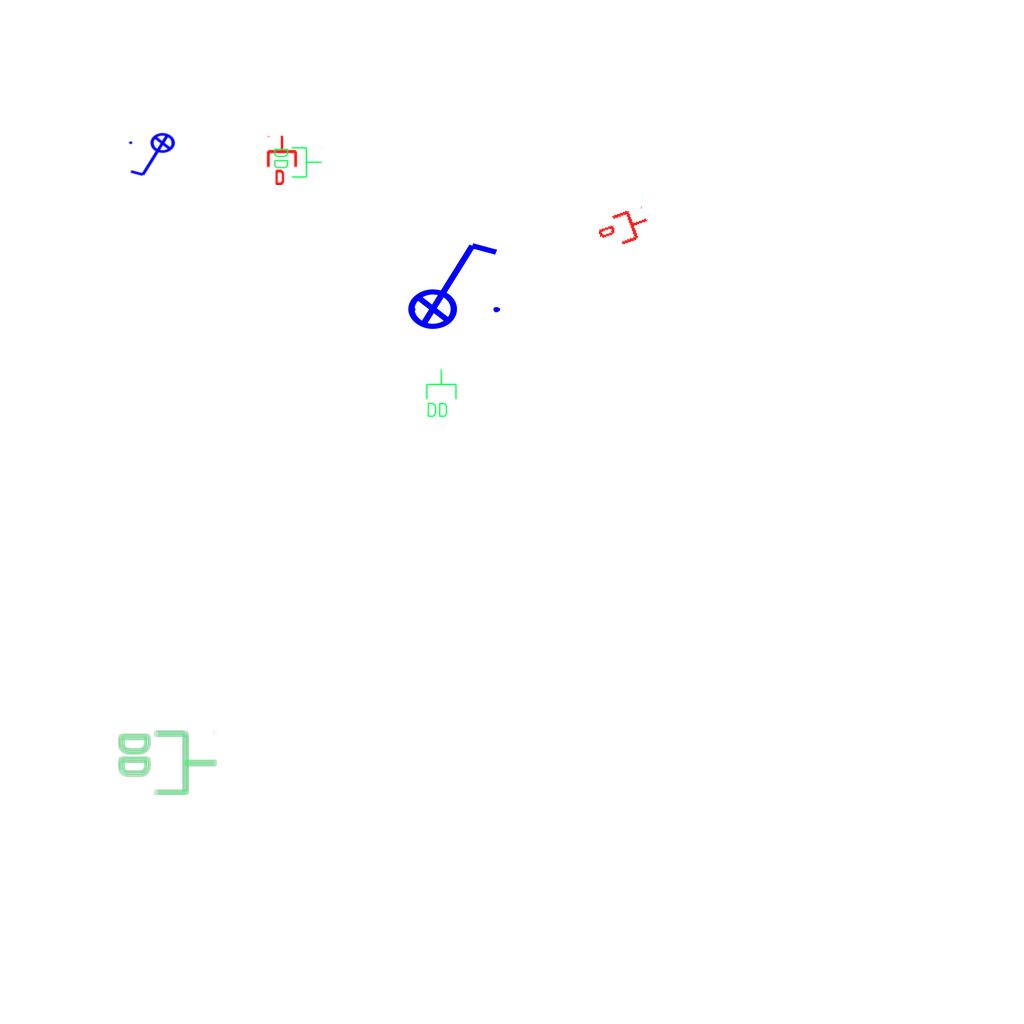Ausschalter_beleuchtet: (394, 235, 506, 331), (126, 132, 182, 180)
Datenanschluss_einfach: (594, 203, 654, 253), (265, 135, 299, 185)
Datenanschluss_zweifach: (116, 728, 219, 797), (424, 368, 458, 419), (272, 145, 323, 179)
